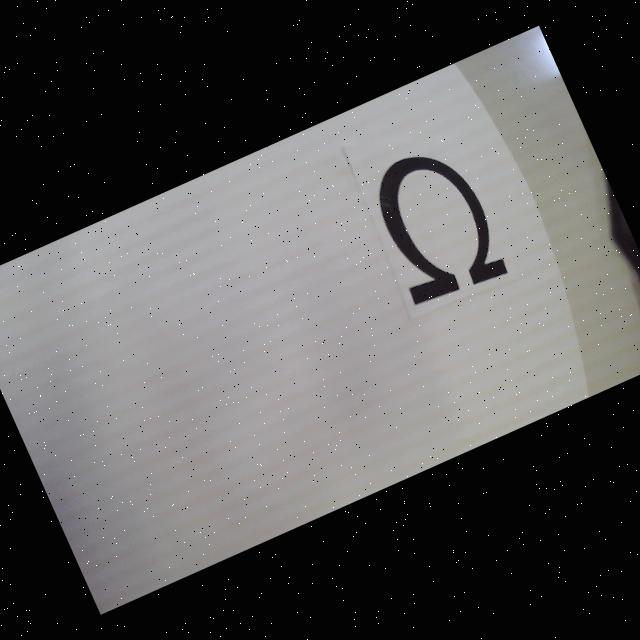OMEGA: (359, 136, 512, 314)
